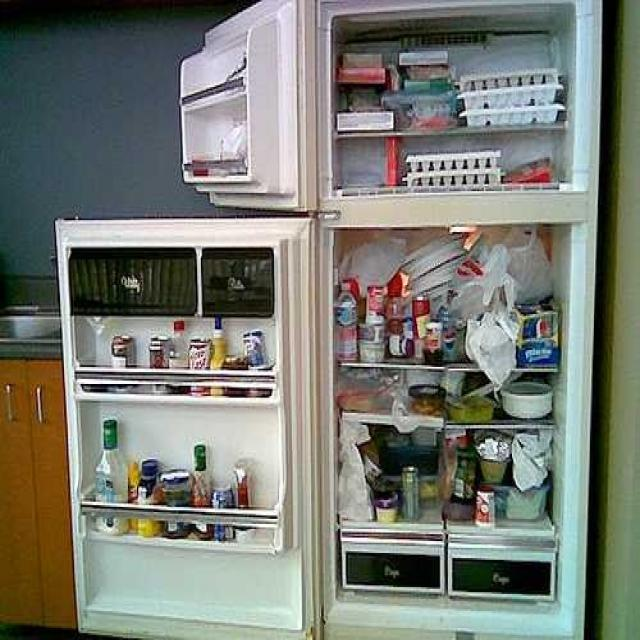refrigerator: (65, 0, 602, 640)
